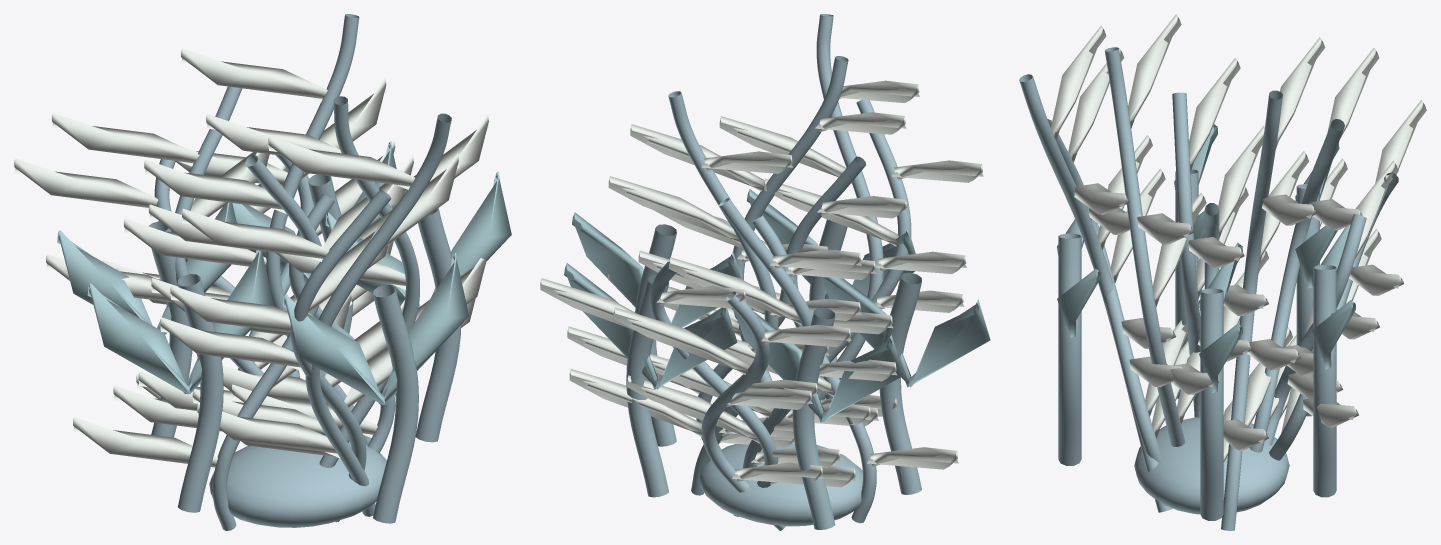
Rendered from bio_aquatic_frond_12_near.glb.
3 renders of one model, left to right at view 1: azimuth 30°, elevation 25°; view 2: azimuth 150°, elevation 25°; view 3: azimuth 270°, elevation 25°, orthographic. The views are drawn at different scales.
Visible parts, largest first — view 1: Ruffled aquatic blade.010, Holdfast, Ruffled aquatic blade.040, Ruffled aquatic blade.035, Ruffled aquatic blade.020, Secondary fan lobe.004, Ruffled aquatic blade.025, Ruffled aquatic blade.005, Secondary fan lobe.008, Flexible stipe.002, Branching support.002, Branching support.004 (+17 smaller); view 2: Ruffled aquatic blade.030, Ruffled aquatic blade.005, Ruffled aquatic blade.015, Holdfast, Ruffled aquatic blade.010, Ruffled aquatic blade.040, Ruffled aquatic blade.020, Ruffled aquatic blade.035, Ruffled aquatic blade.025, Secondary fan lobe.008, Branching support.004, Secondary fan lobe.002 (+17 smaller); view 3: Holdfast, Ruffled aquatic blade.040, Flexible stipe.005, Ruffled aquatic blade.025, Flexible stipe.008, Ruffled aquatic blade.010, Ruffled aquatic blade.035, Branching support.002, Branching support, Branching support.003, Ruffled aquatic blade, Ruffled aquatic blade.030 (+17 smaller).
Part boxes in pixels (<box>): Ruffled aquatic blade.010: <box>170,136,459,457</box>; Holdfast: <box>209,441,386,527</box>; Ruffled aquatic blade.040: <box>123,48,394,404</box>; Ruffled aquatic blade.035: <box>160,208,392,458</box>; Ruffled aquatic blade.020: <box>73,155,414,471</box>; Secondary fan lobe.004: <box>283,252,469,405</box>; Ruffled aquatic blade.025: <box>192,114,489,435</box>; Ruffled aquatic blade.005: <box>46,113,296,410</box>; Secondary fan lobe.008: <box>87,250,273,394</box>; Flexible stipe.002: <box>305,113,451,516</box>; Branching support.002: <box>373,285,418,523</box>; Branching support.004: <box>177,274,223,512</box>; Ruffled aquatic blade.030: <box>569,307,851,484</box>; Ruffled aquatic blade.005: <box>650,249,896,467</box>; Ruffled aquatic blade.015: <box>540,278,856,487</box>; Holdfast: <box>698,444,862,526</box>; Ruffled aquatic blade.010: <box>719,80,966,416</box>; Ruffled aquatic blade.040: <box>608,151,861,438</box>; Ruffled aquatic blade.020: <box>654,196,958,469</box>; Ruffled aquatic blade.035: <box>715,160,983,426</box>; Ruffled aquatic blade.025: <box>608,112,906,425</box>; Secondary fan lobe.008: <box>821,276,990,387</box>; Branching support.004: <box>879,272,921,494</box>; Secondary fan lobe.002: <box>731,308,903,422</box>; Holdfast: <box>1134,417,1289,514</box>; Ruffled aquatic blade.040: <box>1244,37,1325,426</box>; Flexible stipe.005: <box>1104,47,1184,446</box>; Ruffled aquatic blade.025: <box>1128,14,1218,424</box>; Flexible stipe.008: <box>1221,90,1282,530</box>; Ruffled aquatic blade.010: <box>1051,25,1187,416</box>; Ruffled aquatic blade.035: <box>1068,47,1189,438</box>; Branching support.002: <box>1058,233,1081,465</box>; Branching support: <box>1200,288,1223,520</box>; Branching support.003: <box>1313,265,1336,497</box>; Ruffled aquatic blade: <box>1218,125,1268,462</box>; Ruffled aquatic blade.030: <box>1281,100,1426,432</box>.
Bounding box in the file's own units: 1.85 × 1.89 × 1.57.
